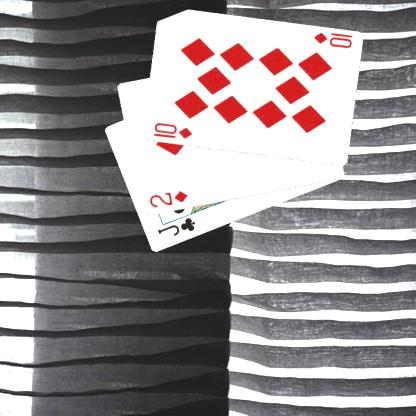10D: (311, 30, 354, 50), (151, 120, 193, 140)
2D: (147, 188, 189, 210)
JC: (154, 215, 197, 238)
